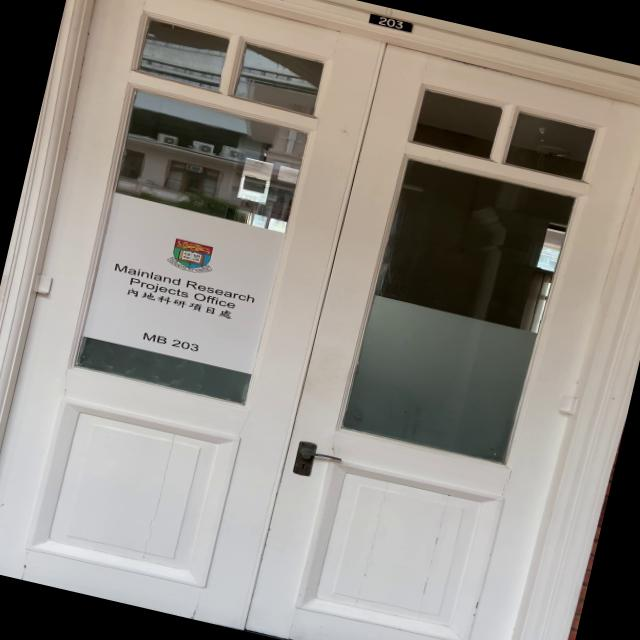room203: (366, 10, 414, 33)
room203Window: (128, 325, 208, 356)
